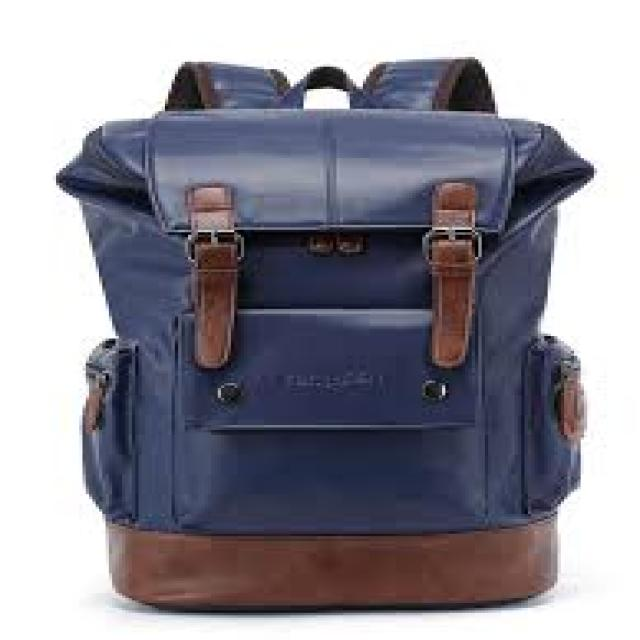backpack: (54, 58, 595, 611)
